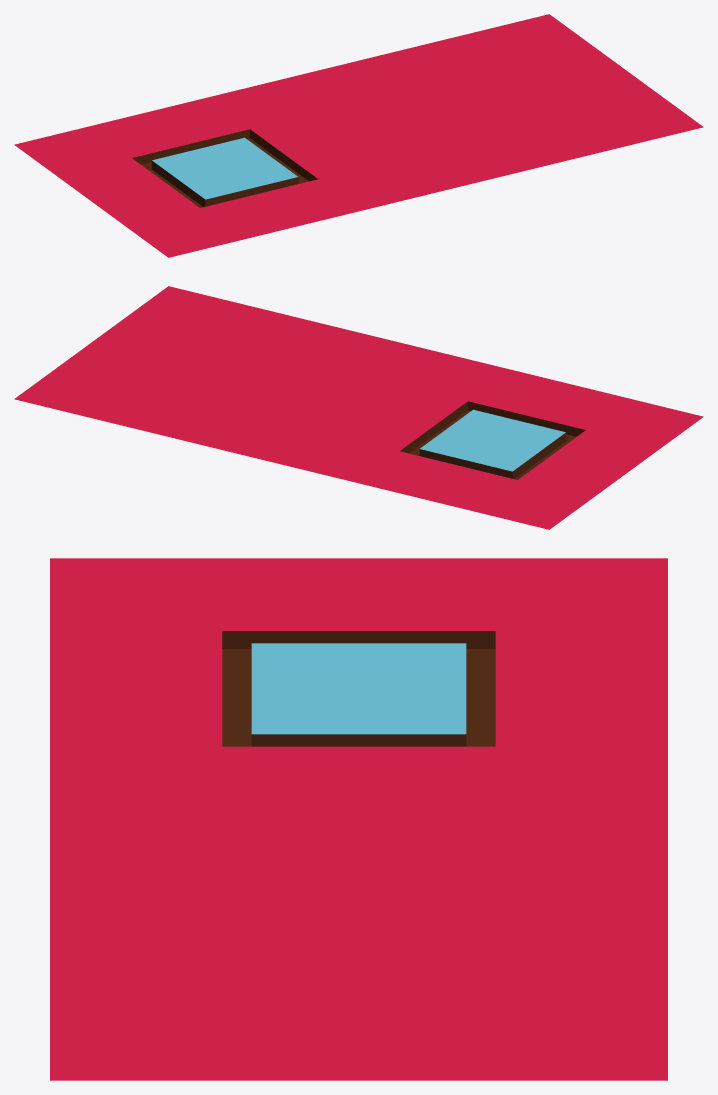
The model's file is Silink.fbx.
3 renders of one model, top to bottom at view 1: azimuth 30°, elevation 25°; view 2: azimuth 150°, elevation 25°; view 3: azimuth 270°, elevation 25°, orthographic. The views are drawn at different scales.
Visible parts, largest first — view 1: Plane.001, SilinkWindowed; view 2: Plane.001, SilinkWindowed; view 3: Plane.001, SilinkWindowed.
Boxes of the visible parts, left/top/right/bottom form: Plane.001: left=282, top=14, right=703, bottom=192; SilinkWindowed: left=14, top=79, right=435, bottom=257; Plane.001: left=14, top=286, right=435, bottom=464; SilinkWindowed: left=282, top=351, right=703, bottom=529; Plane.001: left=50, top=819, right=667, bottom=1080; SilinkWindowed: left=50, top=558, right=667, bottom=819.
Size of the model in its own units: 800 by 12.85 by 400.
